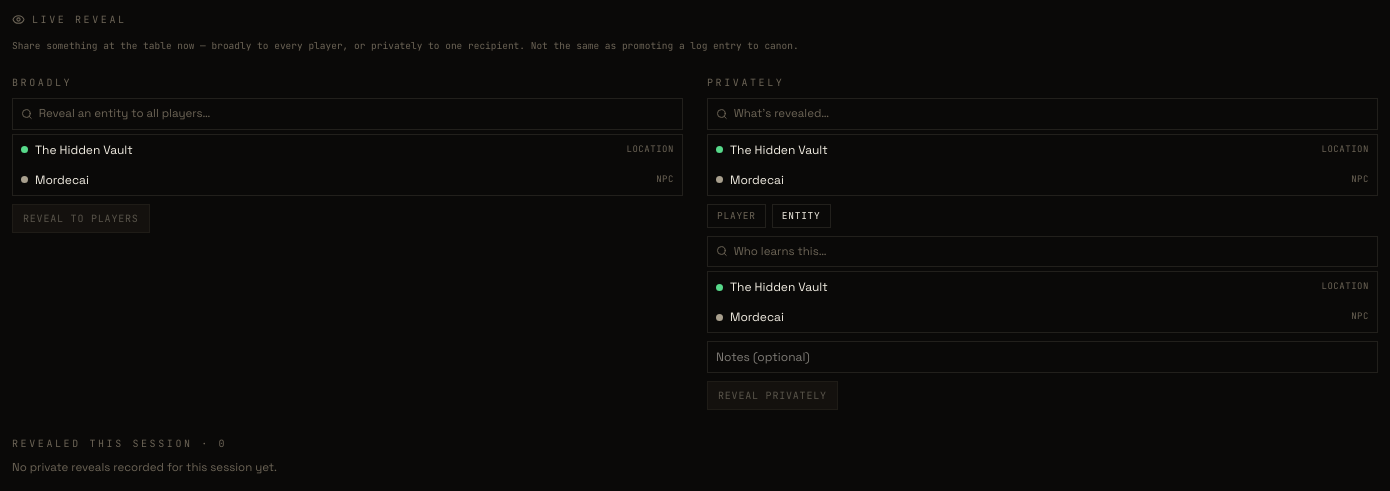
Test: SessionRevealPanel › defaults to Entity recipient kind when no players have joined
expect the field with placeholder "Who learns this…" is shown: met, box left=734, top=237, right=1369, bottom=266
What coordinates should you click on to do the following:
click the button "Player"
I would click on:
 (736, 216)
Its box is left=707, top=204, right=766, bottom=228.
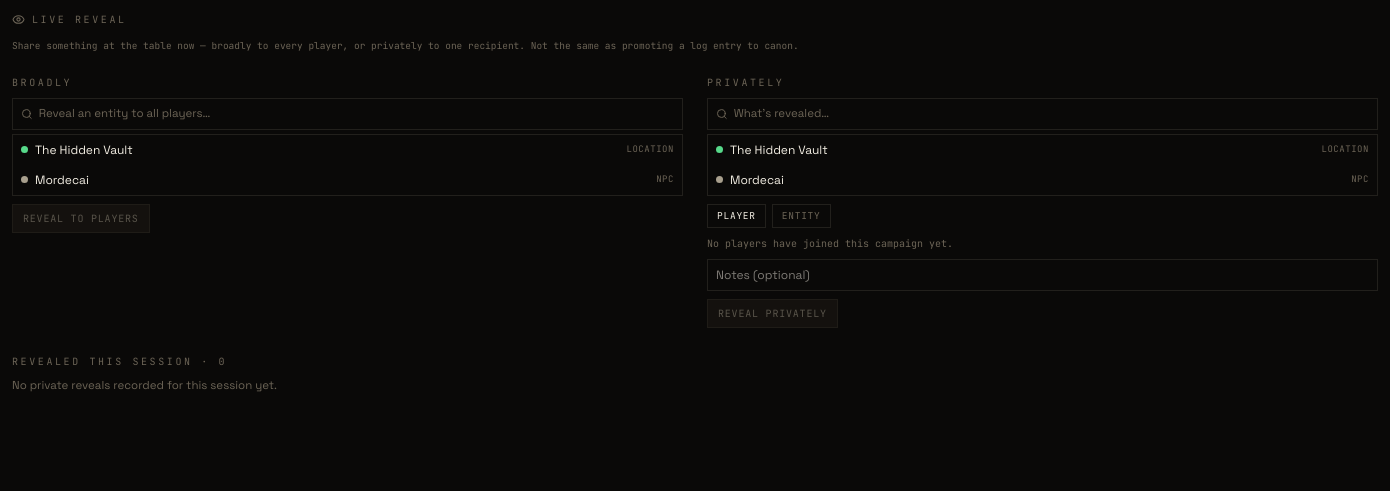
expect the text "No players have joined this campaign yet." is shown: met, box left=707, top=237, right=953, bottom=250
